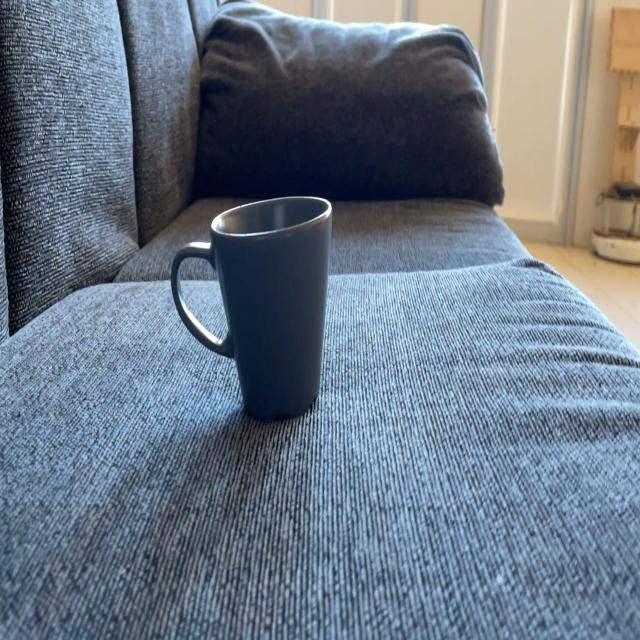cup: (171, 194, 333, 422)
